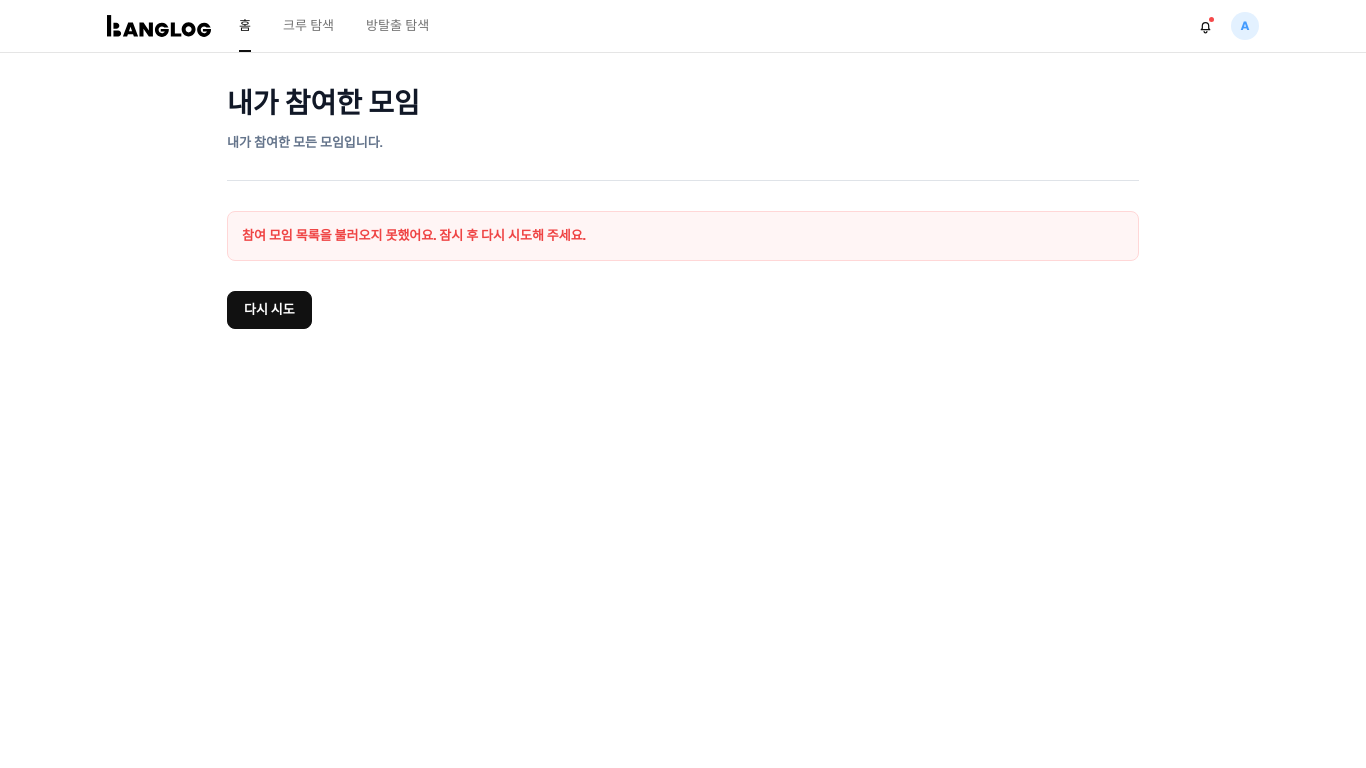
Test case: JoinedMeetingsProfilePage › shows an error with a retry affordance when the first load fails
Expected: the text "참여 모임 목록을 불러오지 못했어요. 잠시 후 다시 시도해 주세요." is shown, x1=227 y1=211 x2=1139 y2=261
Click the button "다시 시도" at point(269, 310), box x1=227 y1=291 x2=312 y2=329
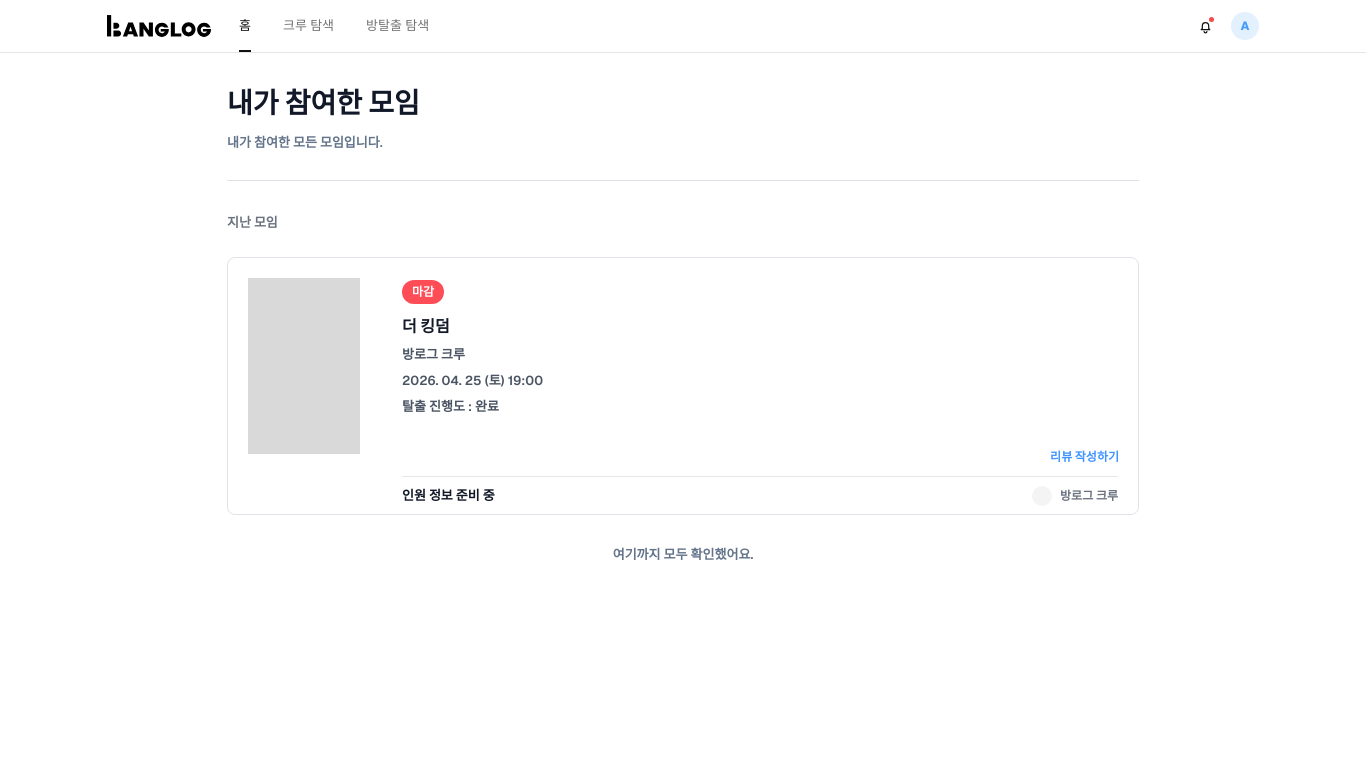
Now the link with aria-label "금요일 방탈출" is shown, box x1=227 y1=257 x2=1139 y2=515
